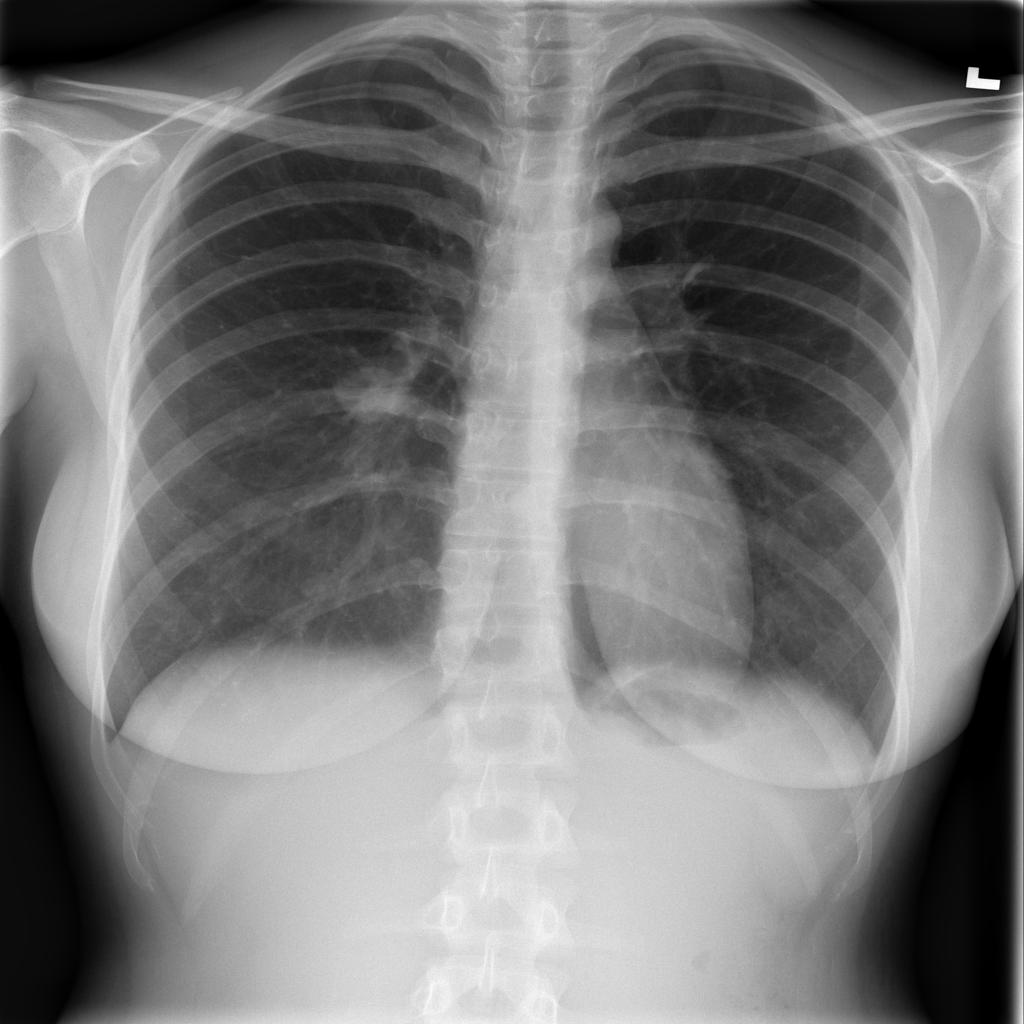nodule: (319, 338, 433, 440), (280, 556, 359, 620)
